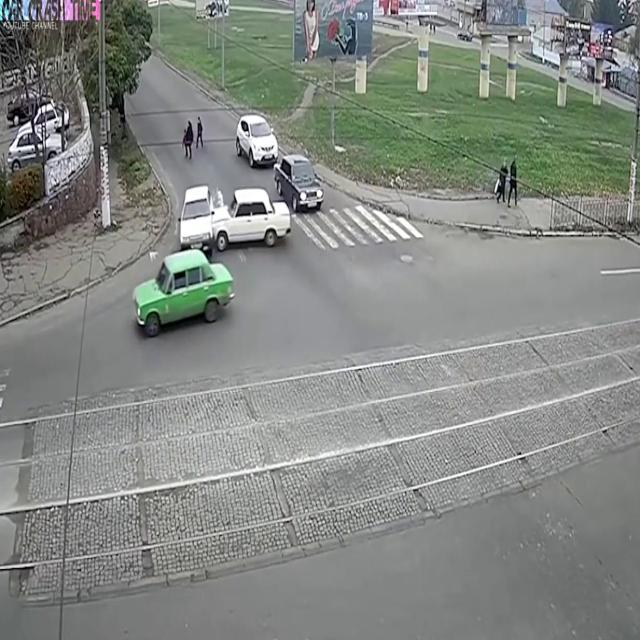accident: (173, 176, 295, 269)
non_accident: (233, 104, 327, 220)
